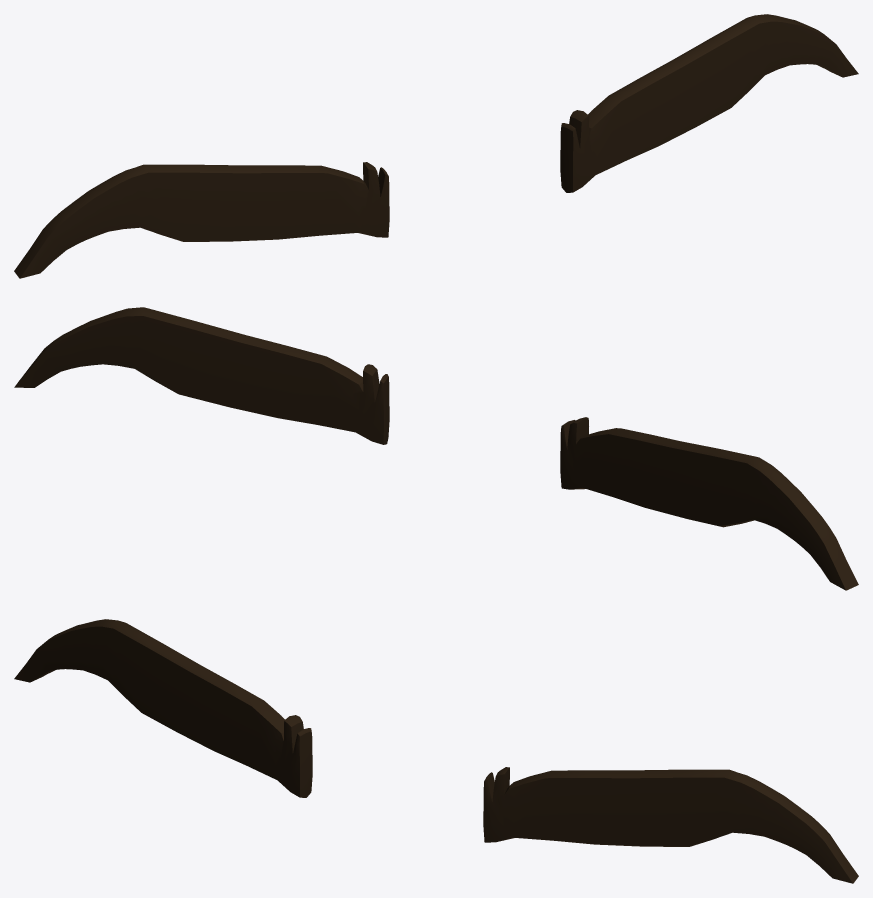
File: eyebrows_reynolds.glb
3 renders of one model, top to bottom at view 1: azimuth 30°, elevation 25°; view 2: azimuth 150°, elevation 25°; view 3: azimuth 330°, elevation 25°, orthographic.
Visible parts, largest first — view 1: eyebrows_renolds; view 2: eyebrows_renolds; view 3: eyebrows_renolds.
Boxes of the visible parts, bbox=[...] form: eyebrows_renolds: bbox=[14, 14, 858, 278]; eyebrows_renolds: bbox=[14, 307, 858, 590]; eyebrows_renolds: bbox=[14, 619, 858, 883].
Size of the model in its own units: 0.2559 by 0.0305 by 0.0272.
